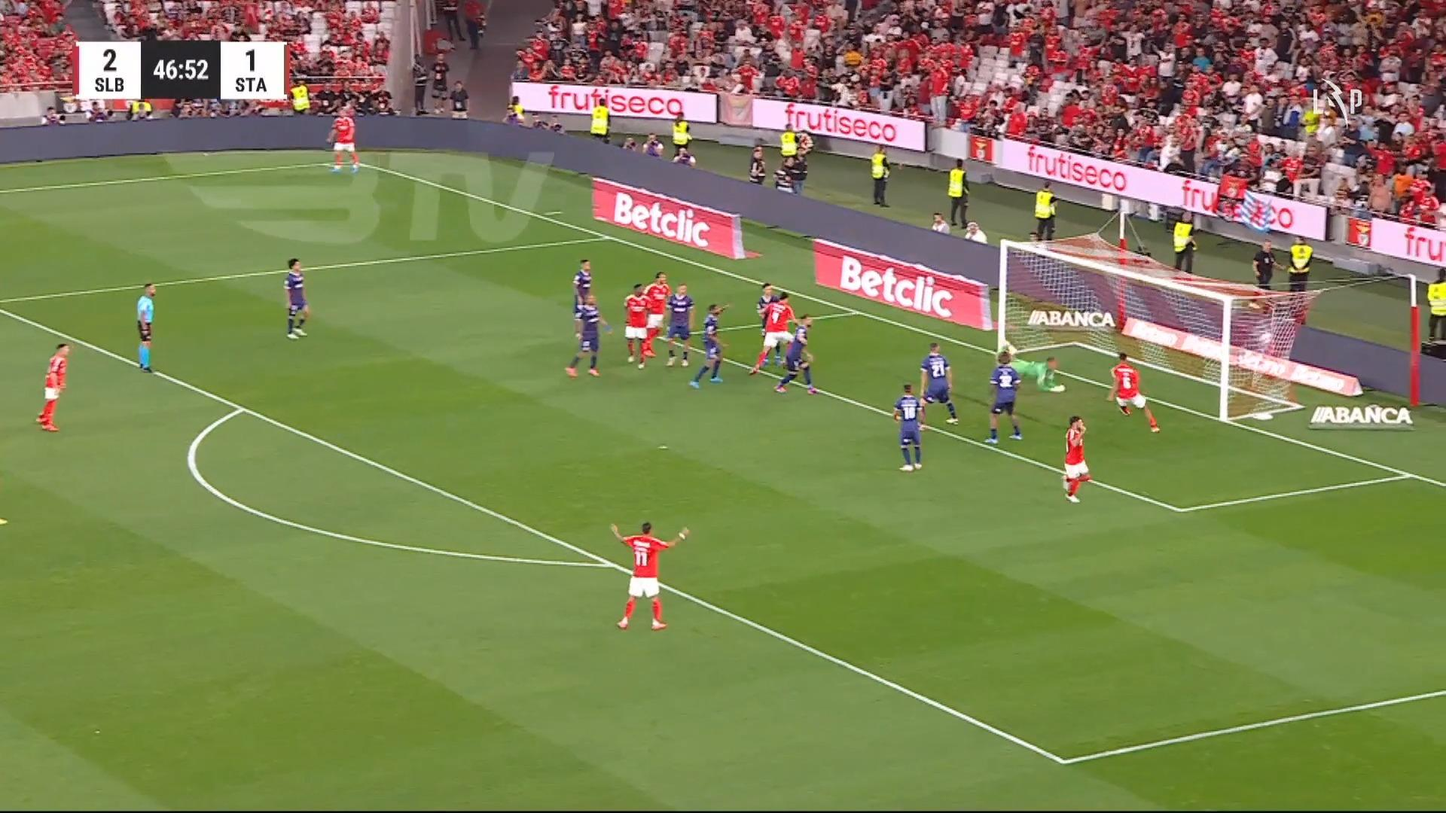ball: (1258, 328, 1275, 347)
goalkeeper: (1000, 343, 1066, 393)
player: (609, 520, 690, 630), (1106, 351, 1160, 433), (749, 290, 796, 375), (564, 294, 612, 377), (984, 349, 1023, 444), (688, 302, 730, 388), (773, 314, 818, 394), (918, 341, 959, 425), (35, 342, 69, 431), (892, 382, 926, 471), (1060, 415, 1091, 503), (663, 283, 695, 367), (640, 271, 670, 358), (622, 282, 651, 367), (325, 105, 360, 173), (282, 257, 310, 340), (571, 257, 593, 333)
referee: (136, 282, 156, 372)
